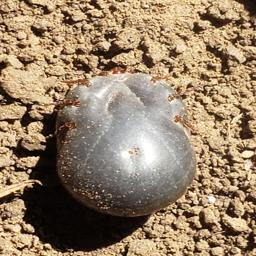Rhipicephalus sanguineus: (53, 68, 195, 217)
